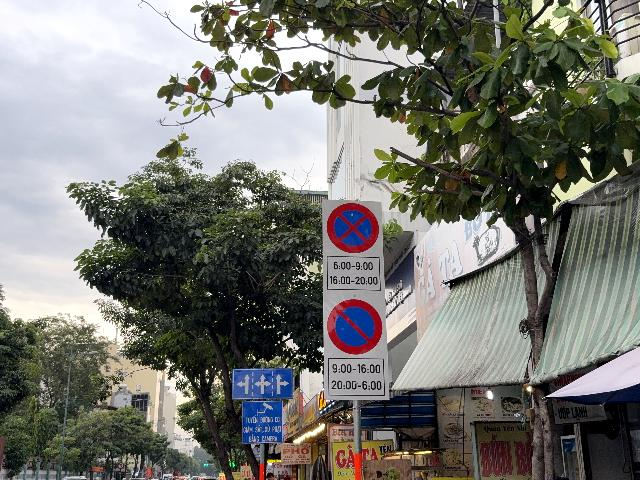cam-do-xe: (327, 299, 383, 355)
cam-dung-va-do-xe: (326, 203, 380, 253)
